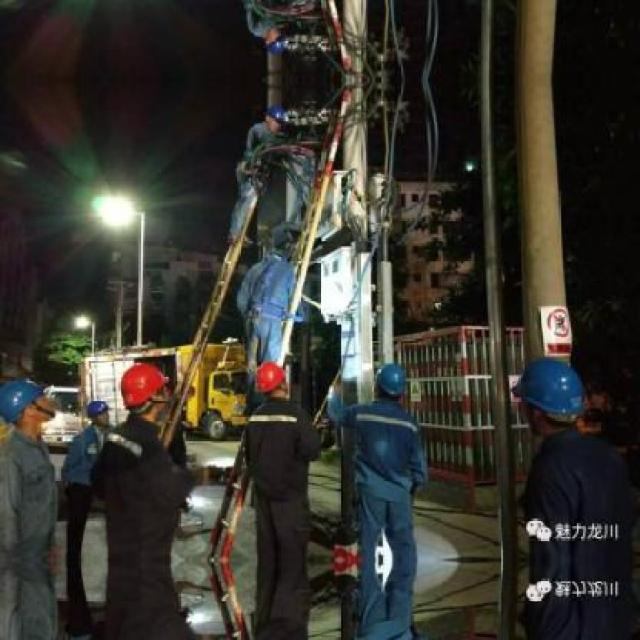helmet: (510, 352, 585, 436), (1, 376, 61, 430), (117, 361, 169, 417), (372, 359, 413, 404), (251, 361, 287, 399), (87, 397, 113, 428), (262, 103, 288, 131), (262, 29, 288, 57)
